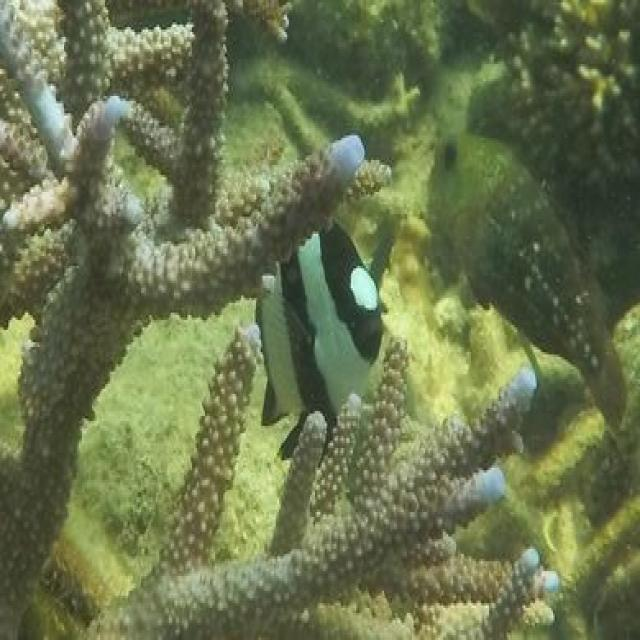Three_striped DasmselFish: (251, 226, 383, 463)
